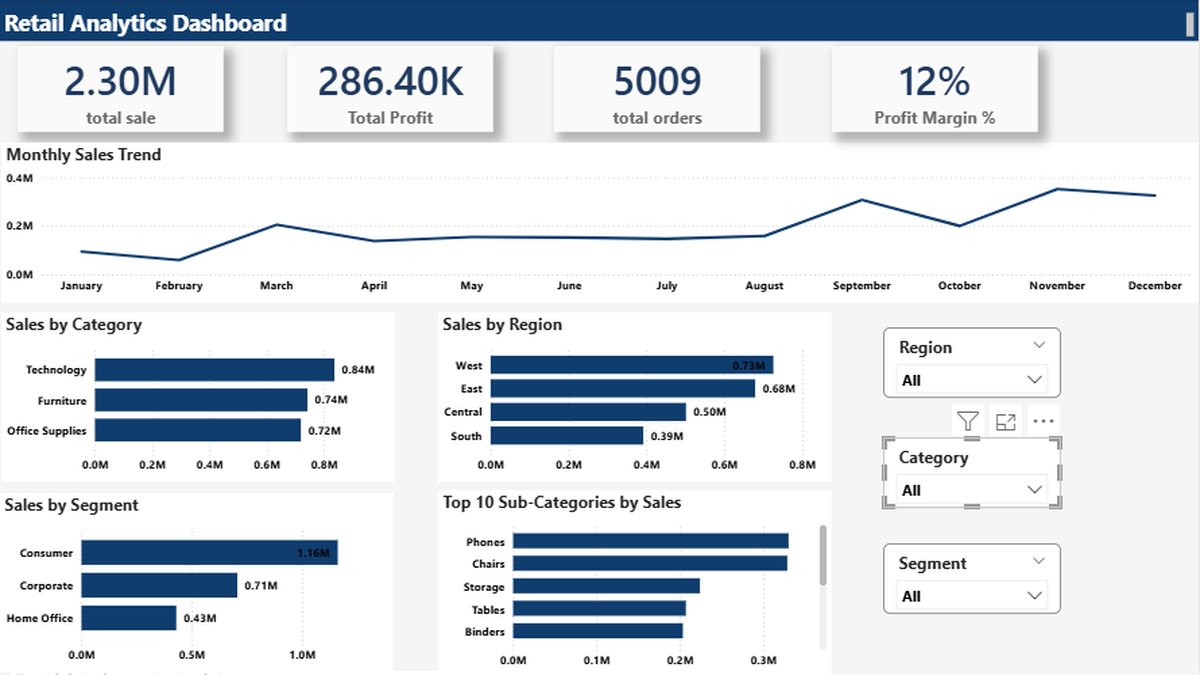

The page's visual inventory and layout, read from the dashboard file:
{"tool":"powerbi","page":{"name":"Duplicate of Page 1","canvas":[1280,720],"ordinal":1},"visuals":[{"type":"card","fields":{"Values":["clean_superstore.total sale"]},"box":[0,0,200,120],"z":0},{"type":"card","fields":{"Values":["clean_superstore.Total Profit"]},"box":[200,0,200,120],"z":1000},{"type":"card","fields":{"Values":["clean_superstore.total orders"]},"box":[397.1,0,200,120],"z":2000},{"type":"lineChart","title":"Monthly Sales Trend","fields":{"Y":["clean_superstore.total sale"],"Category":["clean_superstore.Month"]},"box":[0,144.5,663.1,301.9],"z":3000},{"type":"clusteredBarChart","title":" Sales by Category","fields":{"Category":["clean_superstore.Category"],"Y":["clean_superstore.total sale"]},"box":[716.7,155.1,563.3,281.7],"z":4000},{"type":"clusteredBarChart","title":"Sales by Region","fields":{"Category":["clean_superstore.Region"],"Y":["clean_superstore.total sale"]},"box":[41,440.3,517,279.9],"z":5000},{"type":"clusteredBarChart","title":"Sales by Segment","fields":{"Category":["clean_superstore.Segment"],"Y":["clean_superstore.total sale"]},"box":[715.1,445,564.9,274.5],"z":6000},{"type":"clusteredBarChart","title":"Top 10 Sub-Categories by Salesry","fields":{"Category":["clean_superstore.Sub-Category"],"Y":["clean_superstore.total sale"]},"box":[12,713,515,278],"z":7000},{"type":"slicer","fields":{"Values":["clean_superstore.Region"]},"box":[11.4,1011.4,105.7,278.6],"z":8000},{"type":"slicer","fields":{"Values":["clean_superstore.Category"]},"box":[152.9,1011.4,171.4,278.6],"z":9000},{"type":"slicer","fields":{"Values":["clean_superstore.Segment"]},"box":[335.7,1011.4,171.4,278.6],"z":10000},{"type":"card","fields":{"Values":["clean_superstore.Profit Margin %"]},"box":[578.6,0,200,120],"z":11000},{"type":"qnaVisual","box":[778.6,0,501.4,150],"z":12000}]}

Visuals, with their boxes in screenshot pixels (x1, y1, x2, y2), scaled from the page's 1280x720 canvas onto the 1200x675 screenshot:
card - clean_superstore.total sale: 0:0:188:112
card - clean_superstore.Total Profit: 188:0:375:112
card - clean_superstore.total orders: 372:0:560:112
"Monthly Sales Trend" lineChart: 0:135:622:418
" Sales by Category" clusteredBarChart: 672:145:1199:409
"Sales by Region" clusteredBarChart: 38:413:523:674
"Sales by Segment" clusteredBarChart: 670:417:1199:674
"Top 10 Sub-Categories by Salesry" clusteredBarChart: 11:668:494:674
card - clean_superstore.Profit Margin %: 542:0:730:112
qnaVisual: 730:0:1199:141
